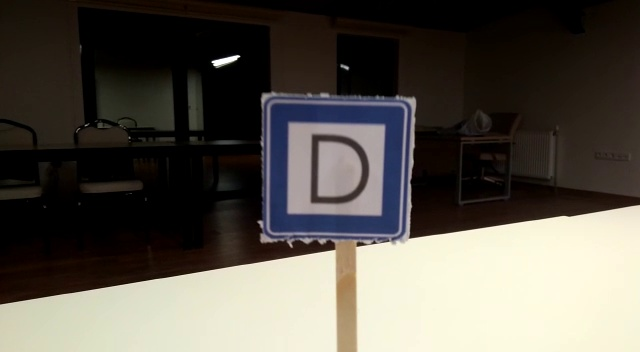durak: (263, 99, 412, 240)
